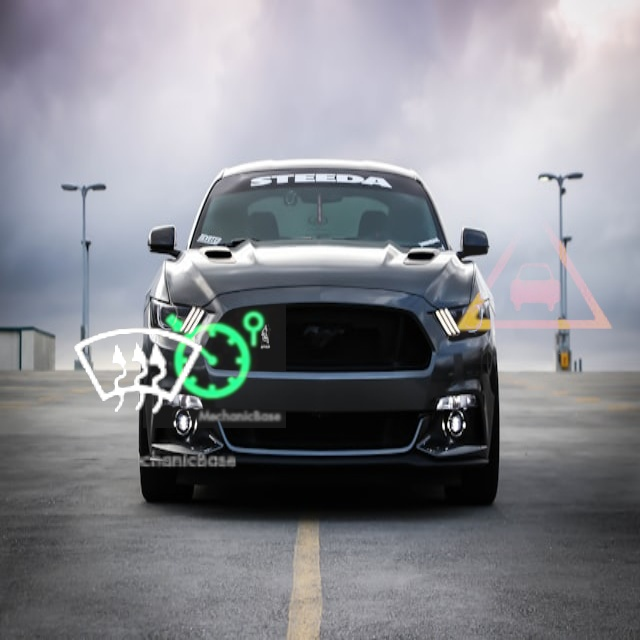symbol: (35, 268, 244, 477), (438, 171, 631, 364), (143, 285, 286, 428)
